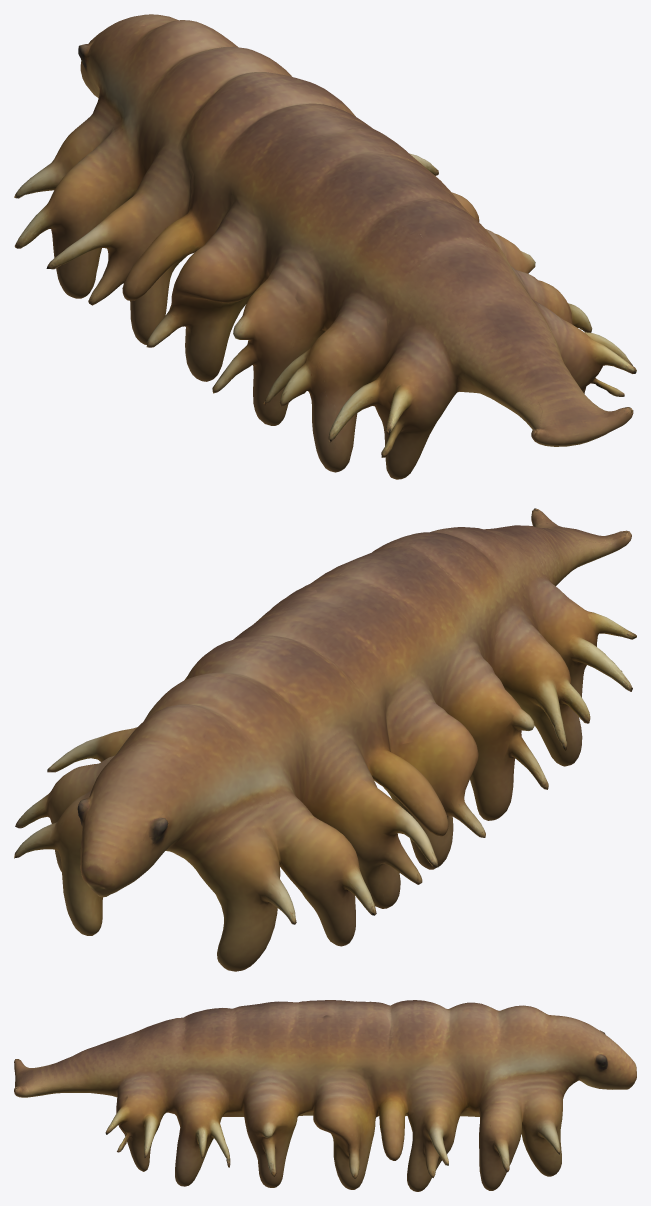
3 views of the same model, one above another, from view 1: azimuth 30°, elevation 25°; view 2: azimuth 150°, elevation 25°; view 3: azimuth 270°, elevation 25° (orthographic). The views are drawn at different scales.
Visible parts, largest first — view 1: world; view 2: world; view 3: world.
Boxes of the visible parts, x1,y1,x2,y2 form: world: [14, 14, 636, 479]; world: [14, 508, 636, 971]; world: [14, 1000, 636, 1191].
Bounding box in the file's own units: 0.0277 × 0.0159 × 0.0601.
1 material, 1 textured.
